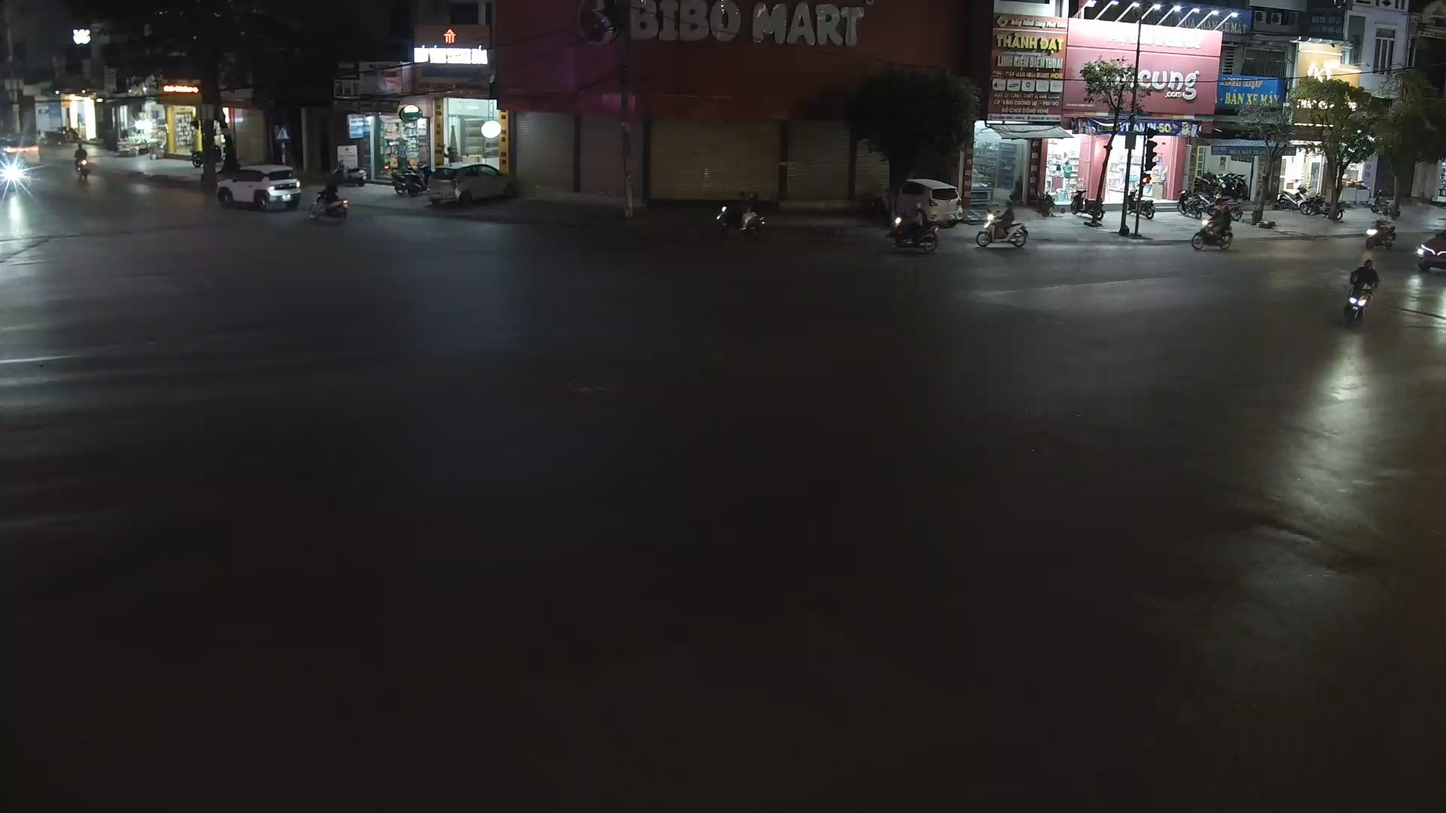car: (216, 172, 303, 212), (1414, 223, 1445, 274)
motorbike: (885, 178, 941, 255), (1337, 251, 1381, 328), (972, 197, 1031, 251), (1189, 199, 1236, 253), (310, 183, 350, 225)
